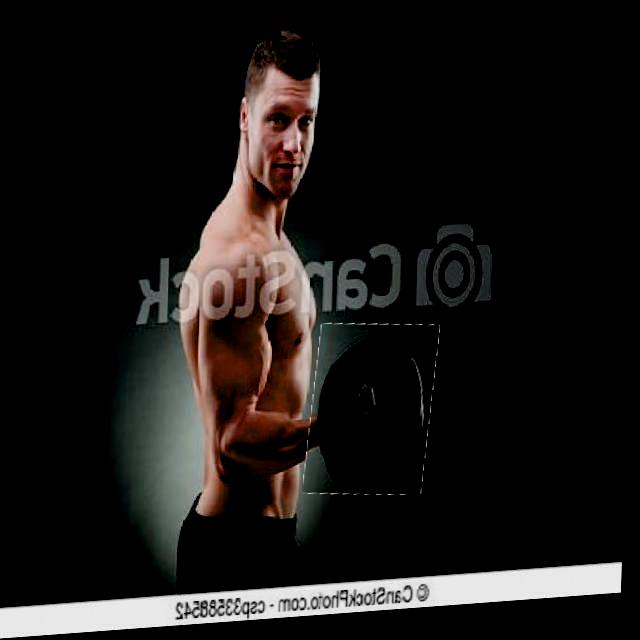barbell: (310, 325, 440, 507)
